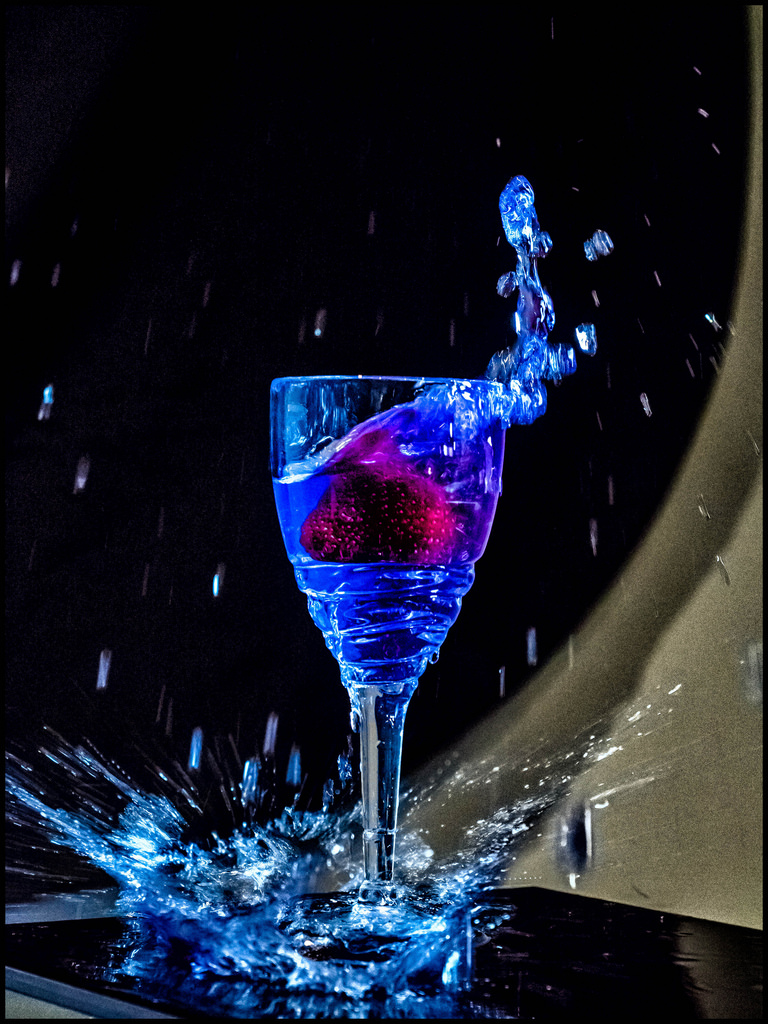glass of water: (270, 369, 470, 958)
